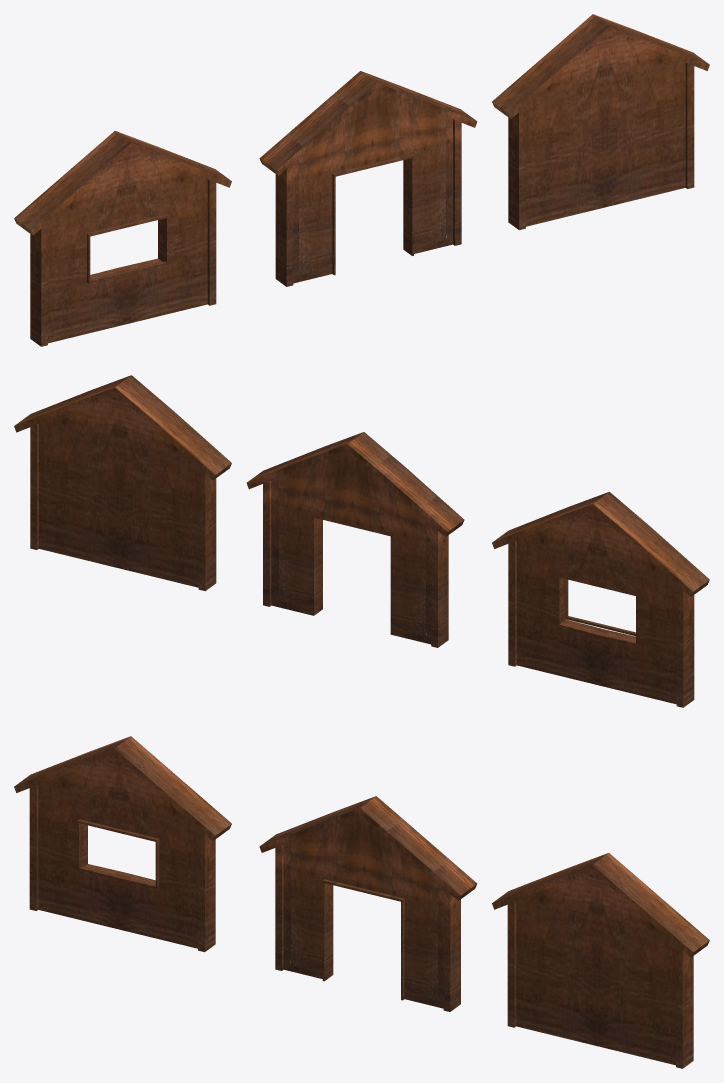
File: baseCabinWalls.fbx
The picture shows the model from 3 angles, top to bottom: view 1: azimuth 30°, elevation 25°; view 2: azimuth 150°, elevation 25°; view 3: azimuth 330°, elevation 25°; orthographic projection.
Visible parts, largest first — view 1: CabinWall1, CabinWindow, CabinDoor; view 2: CabinWall1, CabinWindow, CabinDoor; view 3: CabinWall1, CabinWindow, CabinDoor.
Part boxes in pixels (x1,y1,x2,y2): CabinWall1: (492, 14, 709, 230); CabinWindow: (14, 131, 231, 346); CabinDoor: (259, 71, 477, 286); CabinWall1: (14, 375, 231, 591); CabinWindow: (492, 492, 709, 707); CabinDoor: (246, 432, 464, 647); CabinWall1: (492, 853, 709, 1068); CabinWindow: (14, 736, 231, 952); CabinDoor: (259, 796, 477, 1011).
Size of the model in its own units: 7198 by 1870 by 315.
